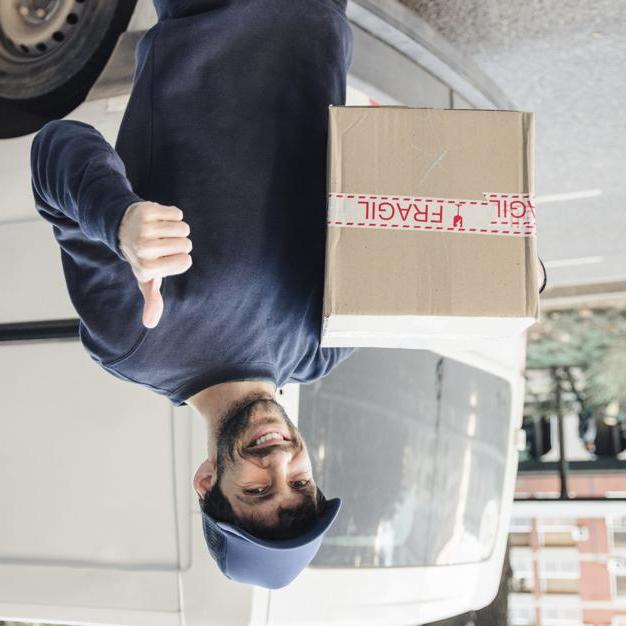thumbsdown: (134, 203, 194, 328)
